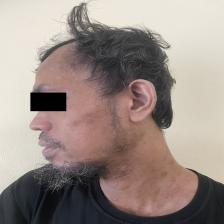DA: (67, 110, 105, 142)
